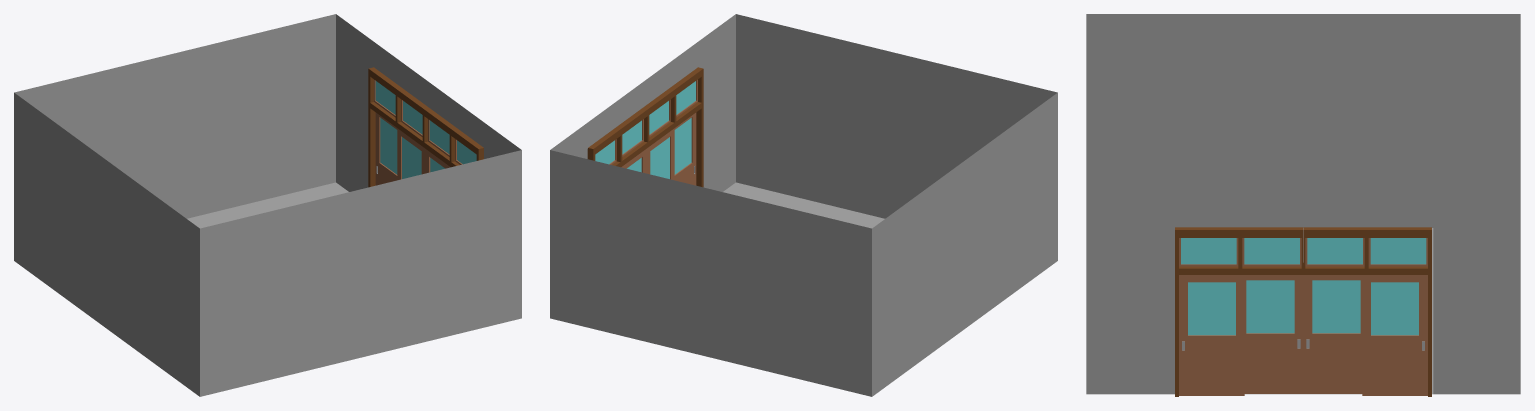
File: Office.fbx
The picture shows the model from 3 angles, left to right: view 1: azimuth 30°, elevation 25°; view 2: azimuth 150°, elevation 25°; view 3: azimuth 270°, elevation 25°; orthographic projection. The views are drawn at different scales.
Visible parts, largest first — view 1: pPlane3, pPlane2, pPlane4, pCube4, pCube5 (×2), pPlane1, Glass (×2), Body (×2); view 2: pPlane2, pPlane3, pPlane4, pCube4, pCube5 (×2), pPlane1, Glass (×2), Body (×2); view 3: pPlane4, pCube4, Body (×4), Glass (×8), pCube5 (×2), pPlane1.
Boxes of the visible parts, x1,y1,x2,y2 form: pPlane3: (200, 150, 521, 396); pPlane2: (14, 14, 335, 218); pPlane4: (14, 92, 199, 396); pCube4: (336, 14, 521, 191); pCube5 (×2): (368, 67, 483, 187); pPlane1: (187, 182, 348, 228); Glass (×2): (380, 118, 421, 178); Body (×2): (375, 112, 425, 185); pPlane2: (550, 150, 871, 396); pPlane3: (736, 14, 1057, 218); pPlane4: (872, 92, 1057, 396); pCube4: (550, 14, 735, 191); pCube5 (×2): (587, 67, 703, 187); pPlane1: (723, 182, 884, 228); Glass (×2): (650, 118, 691, 178); Body (×2): (646, 112, 696, 185); pPlane4: (1086, 14, 1520, 197); pCube4: (1086, 197, 1520, 394); Body (×4): (1179, 275, 1427, 395); Glass (×8): (1181, 238, 1426, 335); pCube5 (×2): (1175, 227, 1431, 396); pPlane1: (1245, 228, 1433, 394).
Bounding box in the file's own units: 10.15 × 5 × 10.
